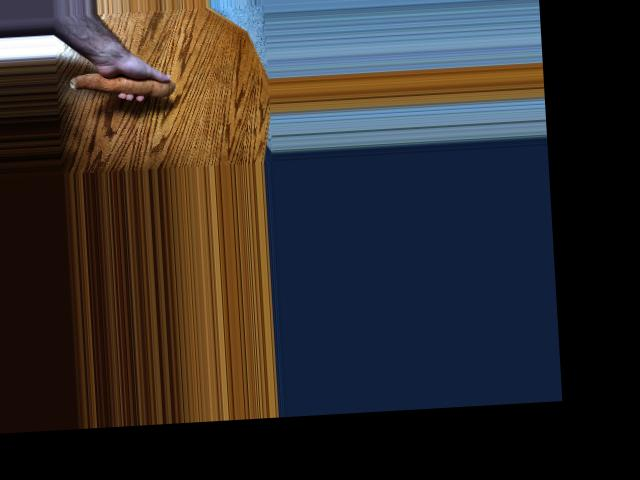sweet_potato: (69, 65, 173, 106)
